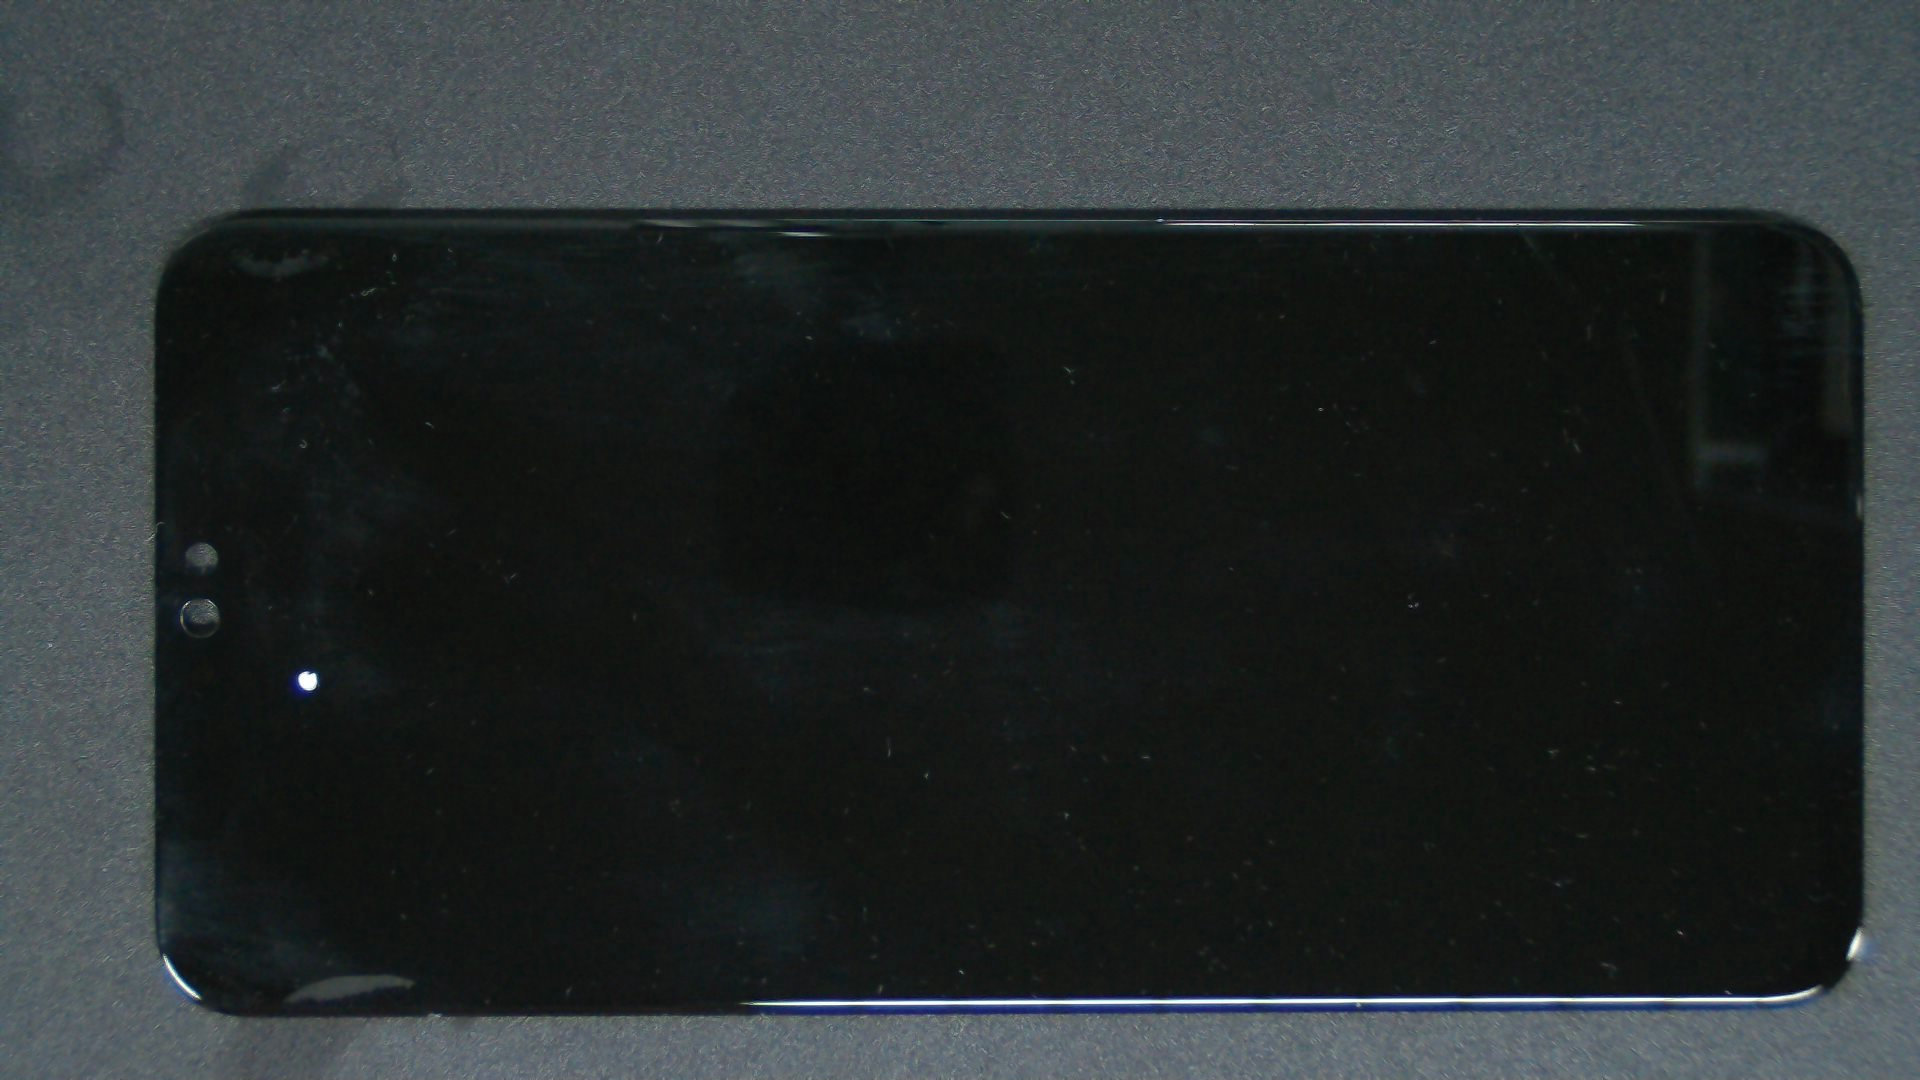oil: (153, 335, 459, 1006)
